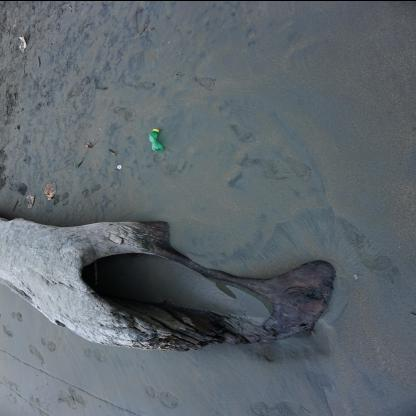plastik: (150, 129, 165, 152), (118, 165, 124, 169)
